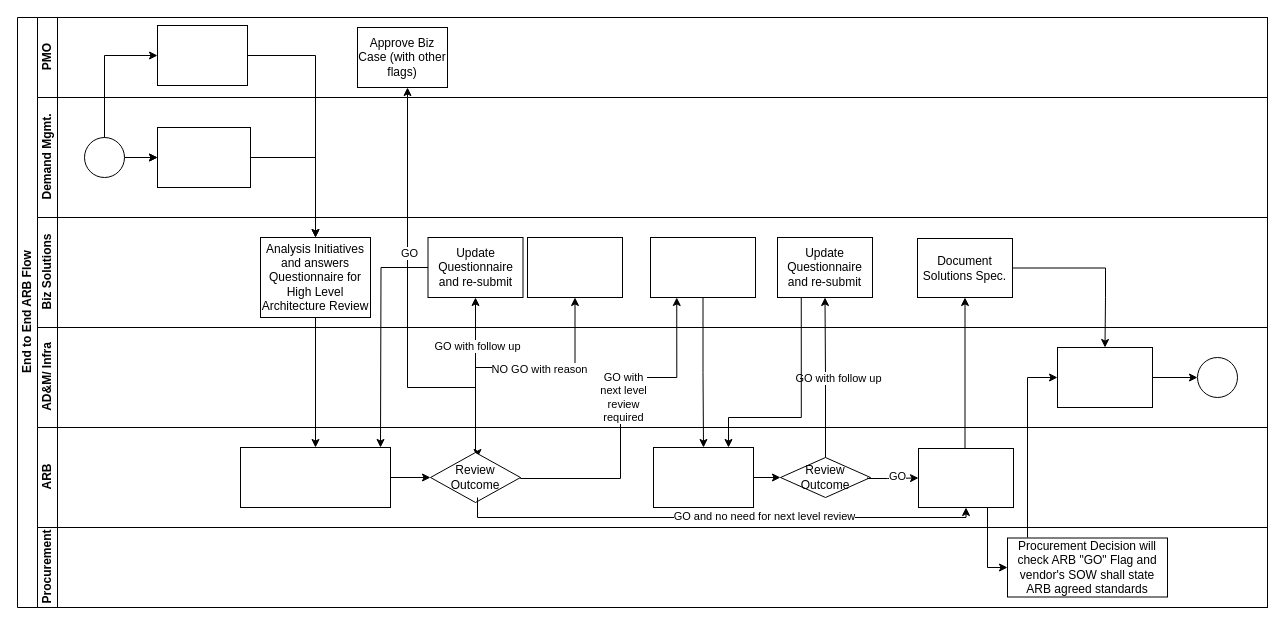
This 1285x625 diagram has some shape labels left out. The shapes that lost their labels are listed below. From the top down, each one's centre as x and y in pixels, then its label:
point 202,55: Business Initiatives before Biz Case Approval
point 203,157: BAU Changes
point 574,267: Brief and agree with Business the NO GO reason
point 703,267: Answer Questionnaire for Solutions Review
point 1104,377: Start Implementation
point 315,477: High Level Architecture Design Review
point 703,477: Solutions Review
point 966,478: Flag "GO" status for ARB
